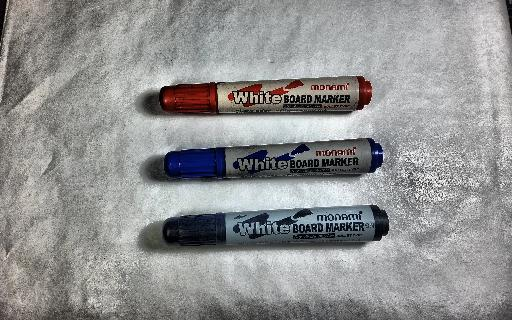marcador azul: (164, 138, 383, 179)
marcador negro: (162, 205, 389, 246)
marcador rojo: (159, 76, 372, 114)
